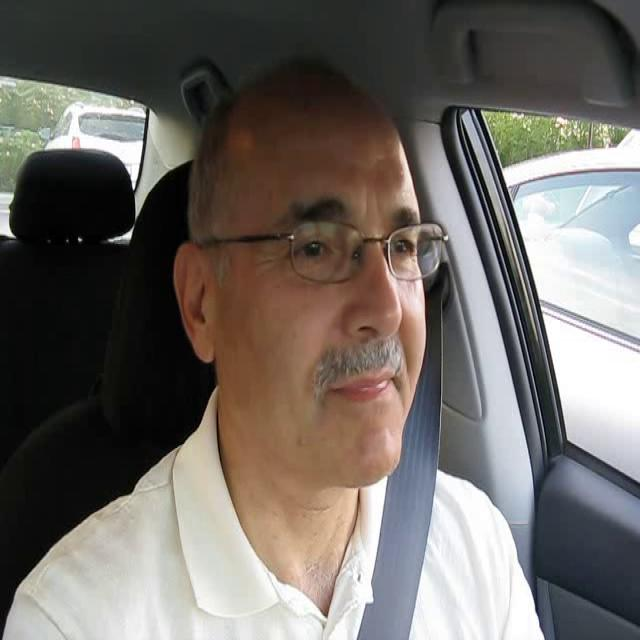close: (326, 366, 398, 404)
